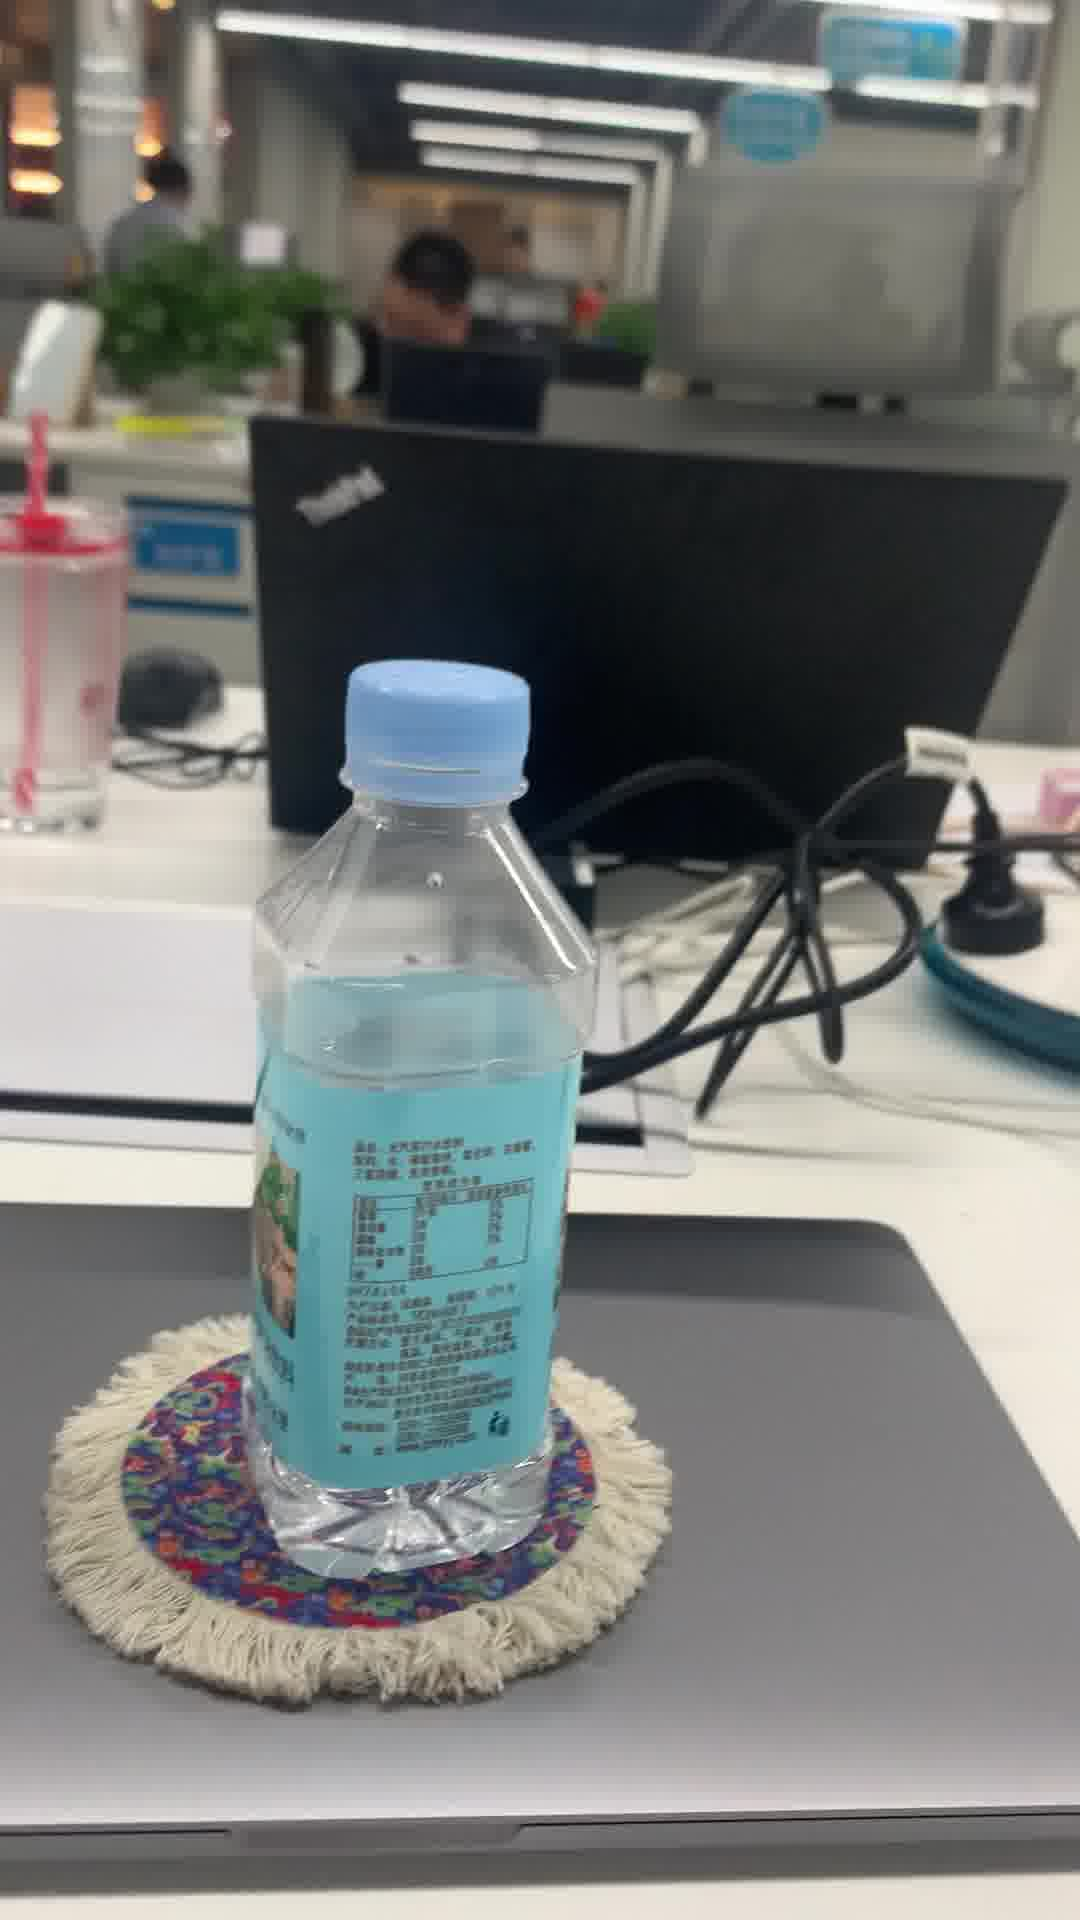水瓶: (243, 649, 596, 1590)
